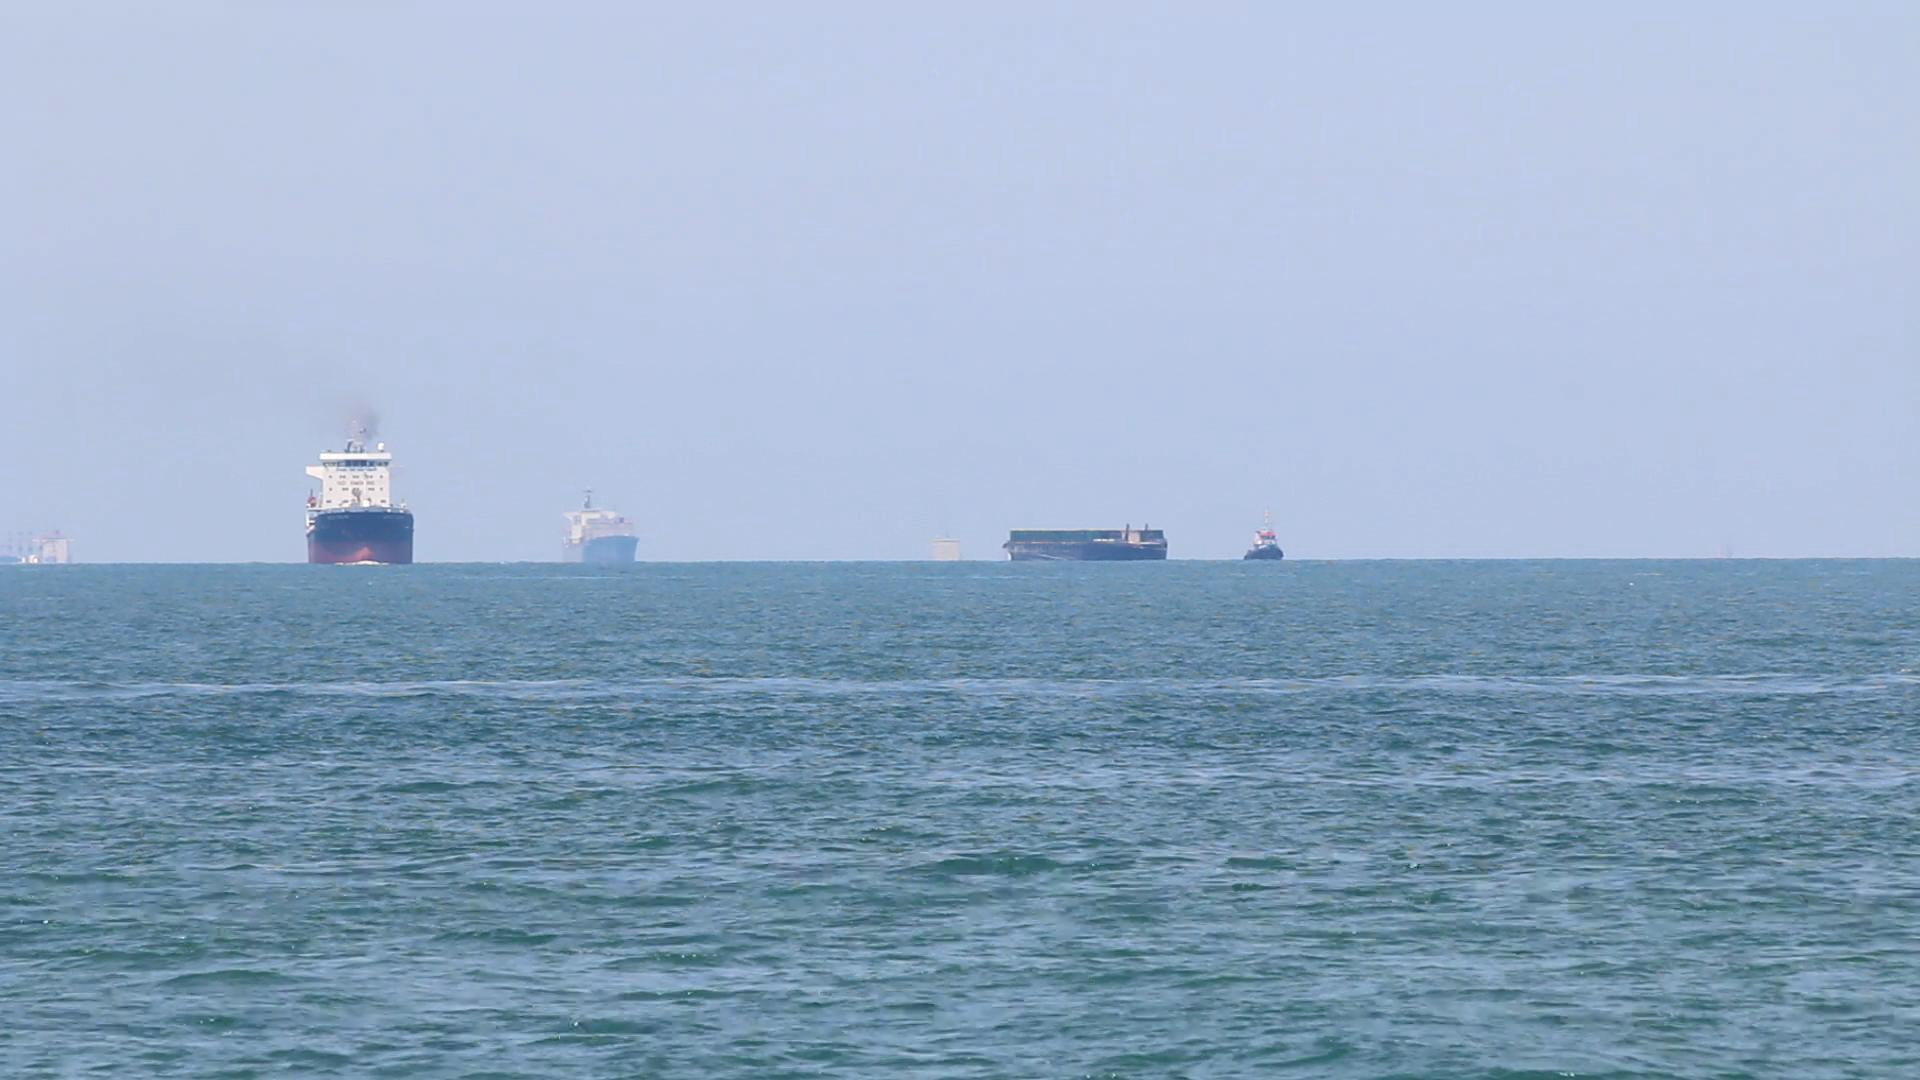Container Ship: (294, 415, 421, 575), (551, 479, 646, 571), (998, 521, 1174, 568), (1236, 514, 1294, 568)
